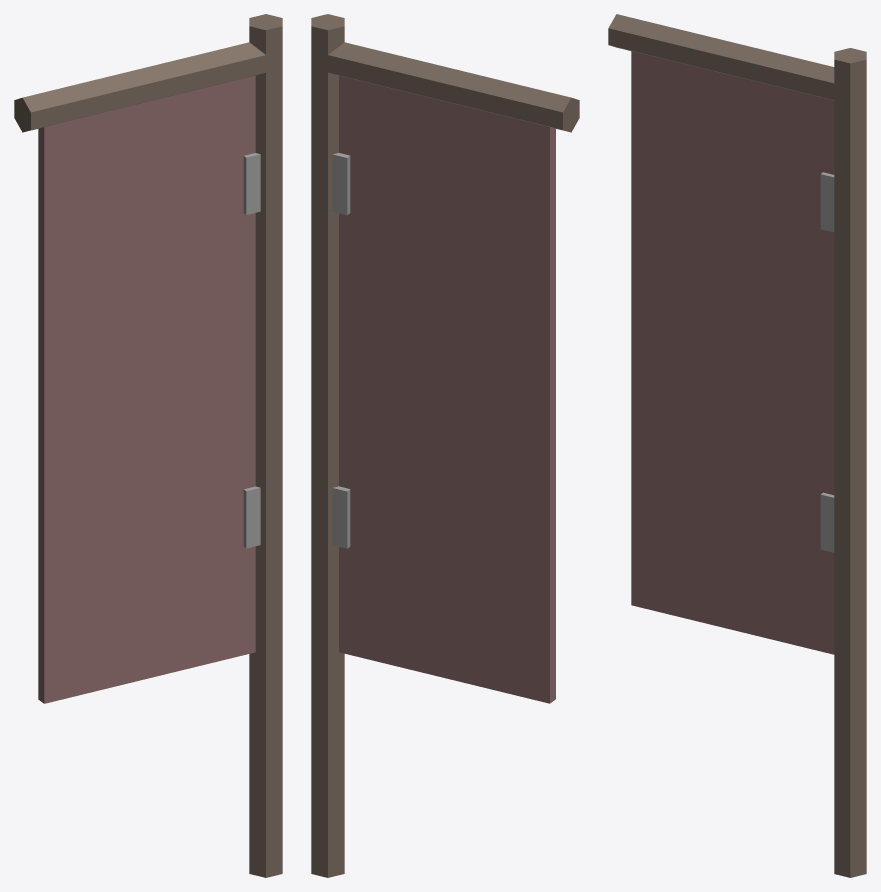
Rendered from props_banner_small_001.fbx.
3 views of the same model, side by side, from view 1: azimuth 30°, elevation 25°; view 2: azimuth 150°, elevation 25°; view 3: azimuth 330°, elevation 25° (orthographic). The views are drawn at different scales.
Parts seen in each view (by area): view 1: pCube125, pCylinder1, pCylinder6, pCube117, pCube118; view 2: pCube125, pCylinder1, pCylinder6, pCube117, pCube118; view 3: pCube125, pCylinder1, pCylinder6, pCube117, pCube118.
Boxes of the visible parts, x1,y1,x2,y2 form: pCube125: (38,75,255,703); pCylinder1: (249,14,282,877); pCylinder6: (14,42,275,132); pCube117: (243,486,260,548); pCube118: (243,153,260,214); pCube125: (339,75,555,703); pCylinder1: (311,14,344,877); pCylinder6: (328,42,579,132); pCube117: (332,486,350,548); pCube118: (332,153,350,215); pCube125: (631,51,834,654); pCylinder1: (834,48,866,877); pCylinder6: (608,14,843,101); pCube117: (820,492,834,552); pCube118: (820,172,834,232).
Bounding box in the file's own units: 84.67 × 264 × 9.42.
